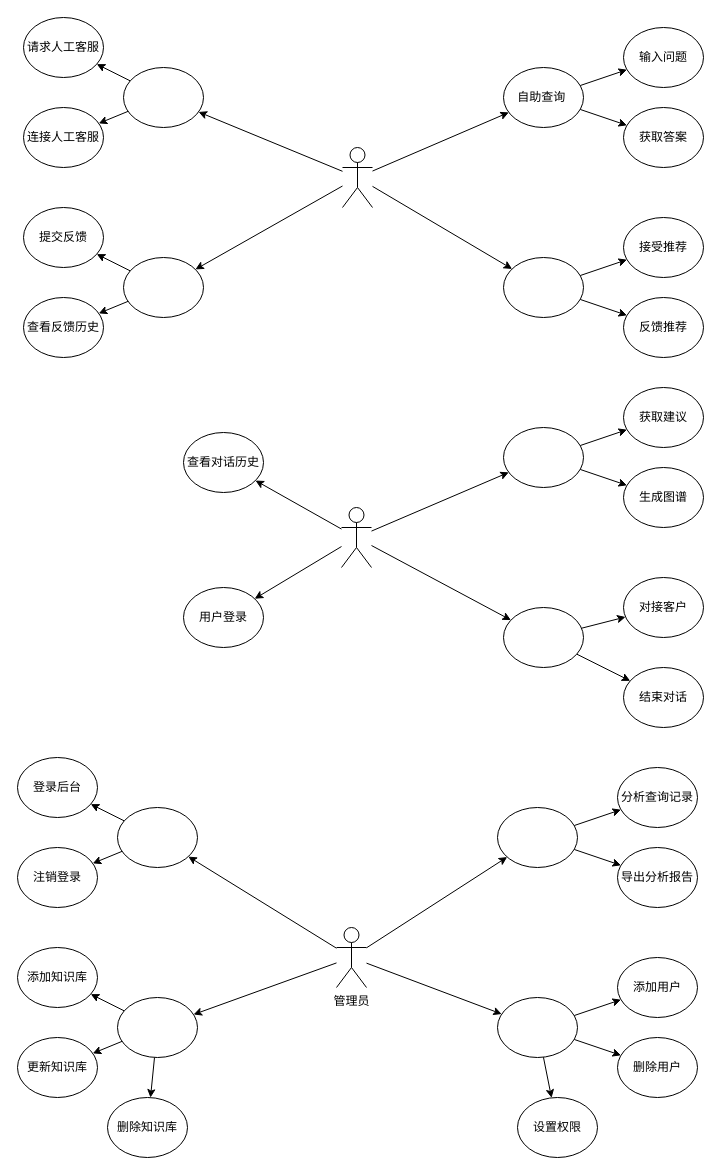
This 721x1175 diagram has some shape labels left out. Each missing label, with the centre of its shape:
"AI辅助" goes at (x=543, y=457).
"互动交流" goes at (x=543, y=637).
"人工客服" goes at (x=356, y=537).
"客户" goes at (x=357, y=177).
"数据分析" goes at (x=537, y=837).
"智能推荐" goes at (x=543, y=287).
"满意度反馈" goes at (x=163, y=287).
"用户管理" goes at (x=537, y=1027).
"管理员登录" goes at (x=157, y=837).
"编辑知识库" goes at (x=157, y=1027).
"转接人工客服" goes at (x=163, y=97).
